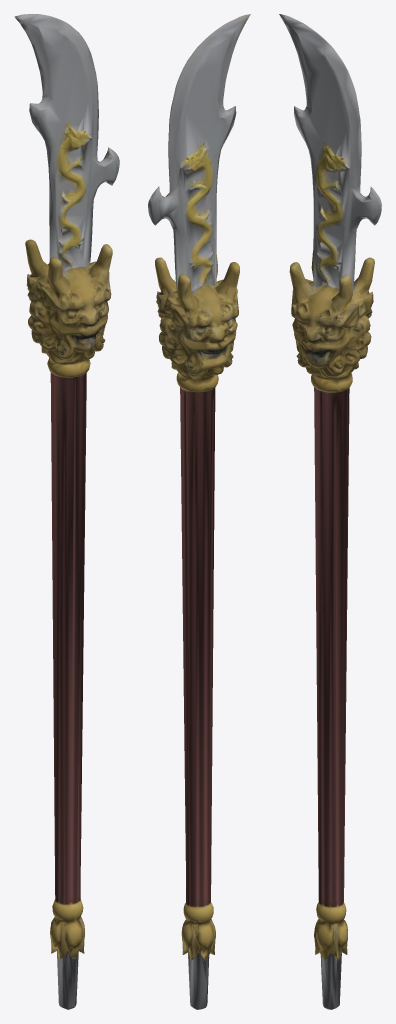
File: dao.glb
3 views of the same model, side by side, from view 1: azimuth 30°, elevation 25°; view 2: azimuth 210°, elevation 25°; view 3: azimuth 330°, elevation 25° (orthographic). The views are drawn at different scales.
Parts seen in each view (by area): view 1: node_0; view 2: node_0; view 3: node_0.
Part boxes in pixels (x1=…): node_0: x1=14, y1=14, x2=119, y2=1009; node_0: x1=148, y1=14, x2=250, y2=1009; node_0: x1=279, y1=14, x2=381, y2=1009.
Size of the model in its own units: 0.1077 by 0.9835 by 0.0837.
1 material, 1 textured.
